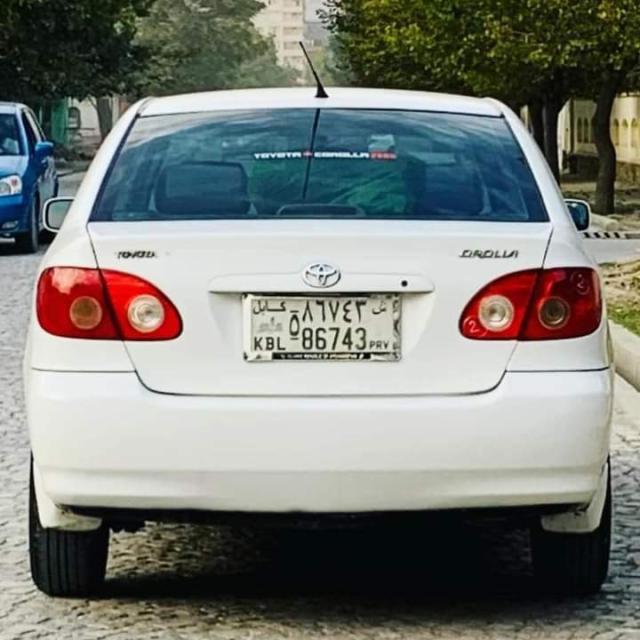Plate: (244, 295, 402, 361)
